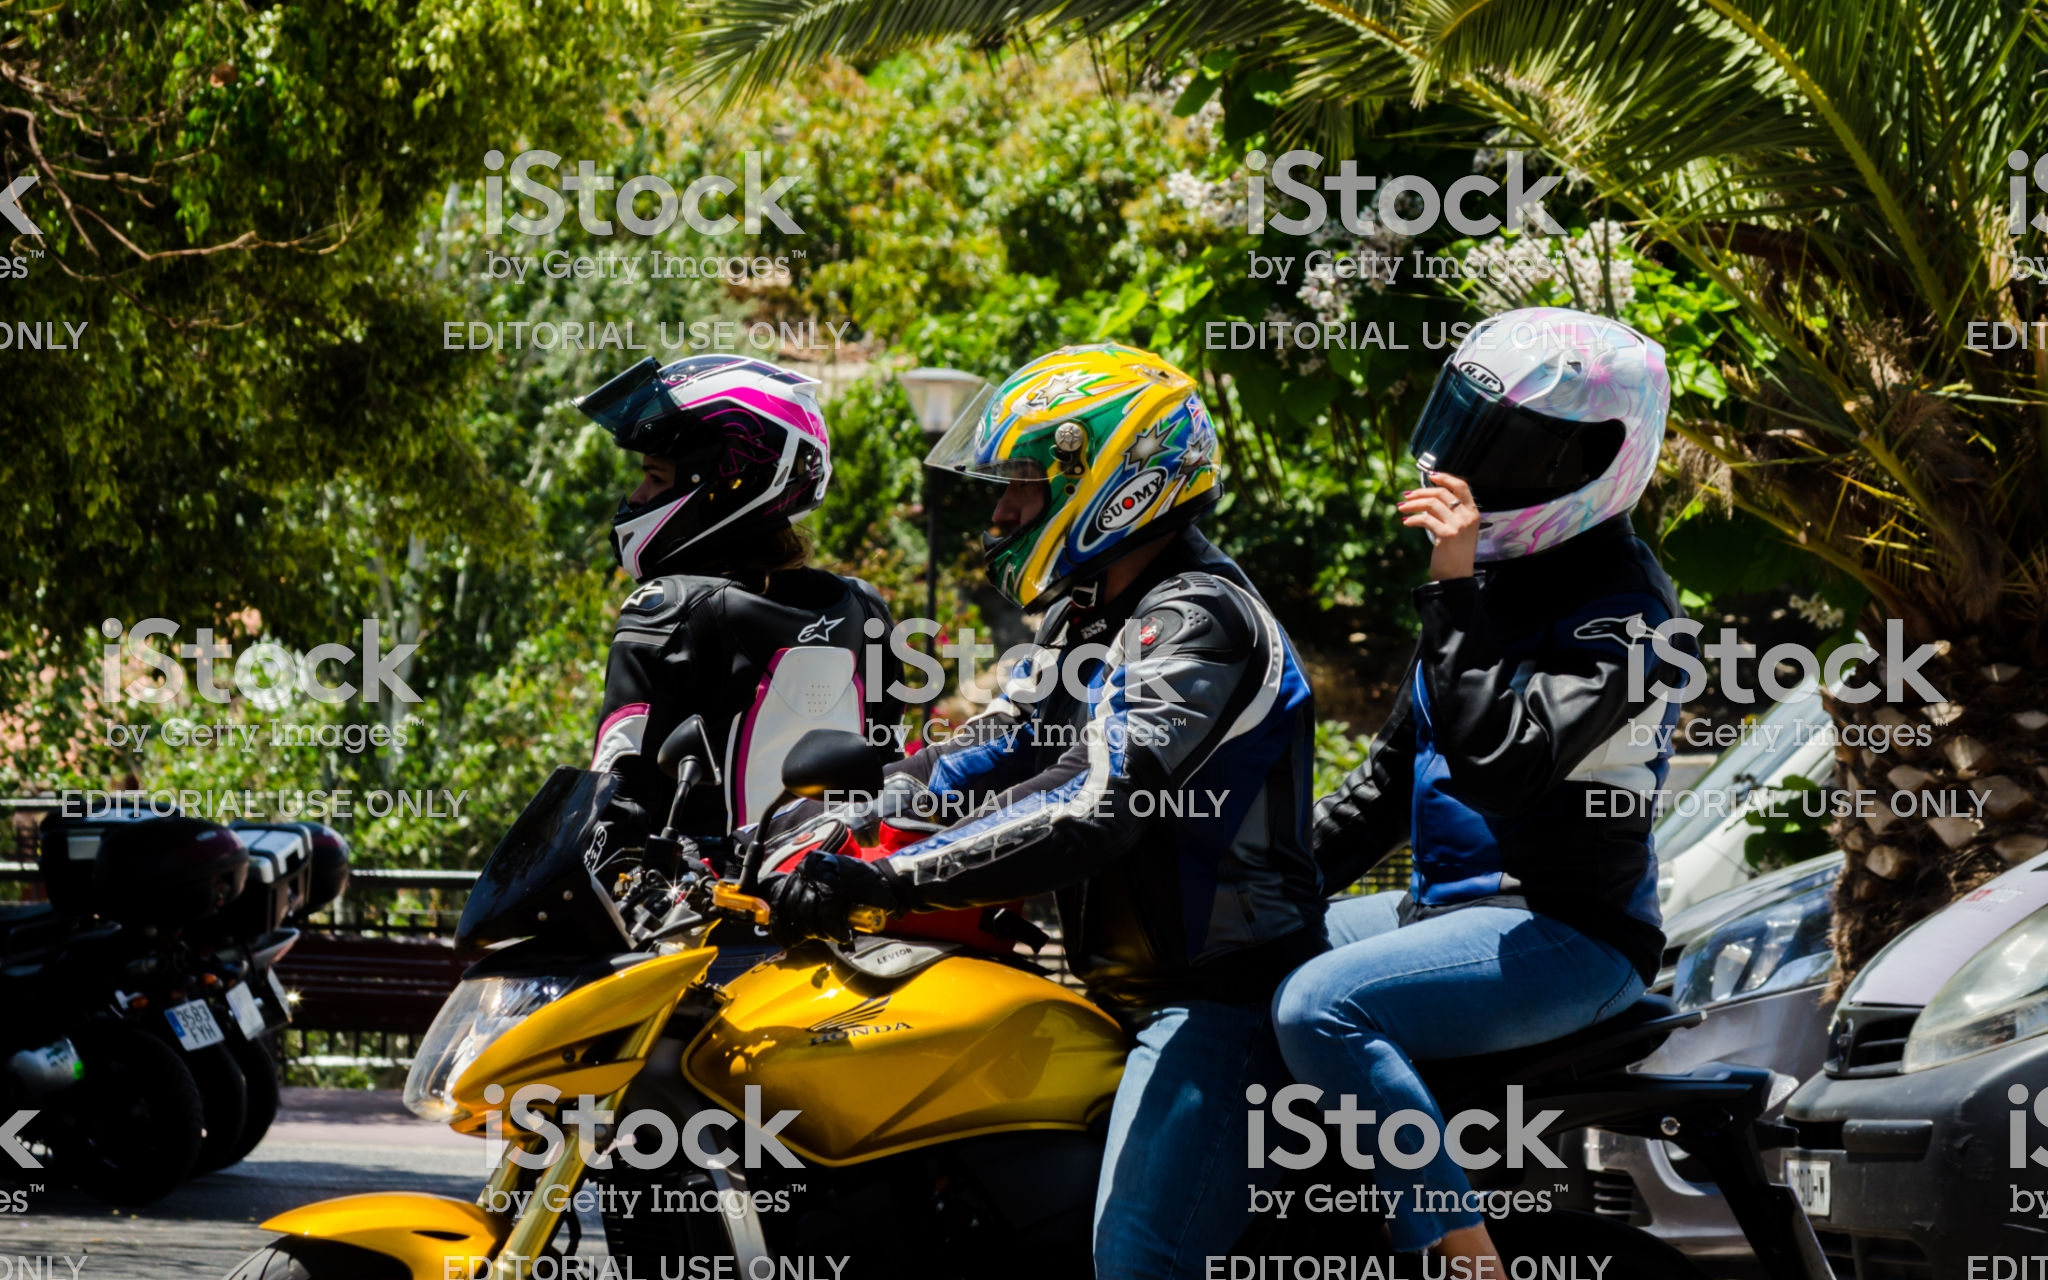helmet: (954, 345, 1246, 599), (1407, 299, 1662, 577), (569, 342, 849, 591)
